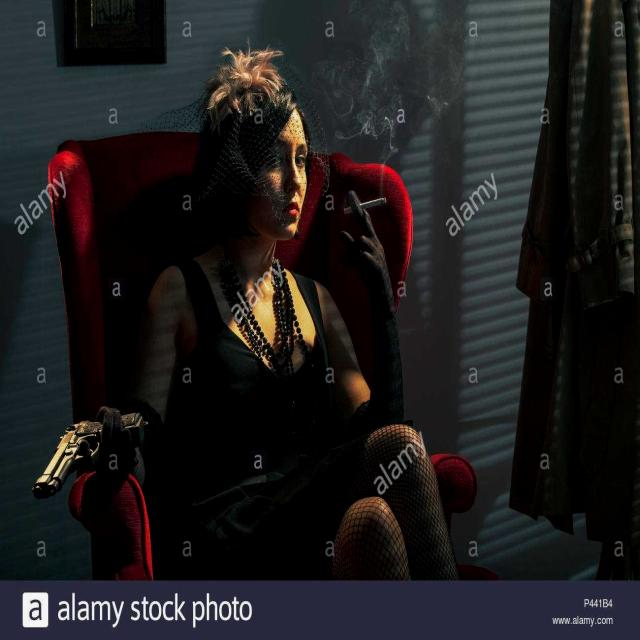Smooking: (335, 192, 391, 224)
